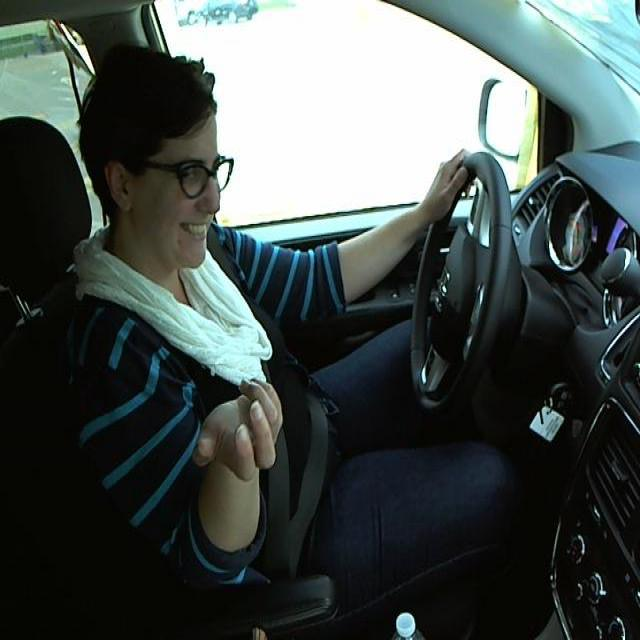seatbelt: (253, 324, 332, 564)
